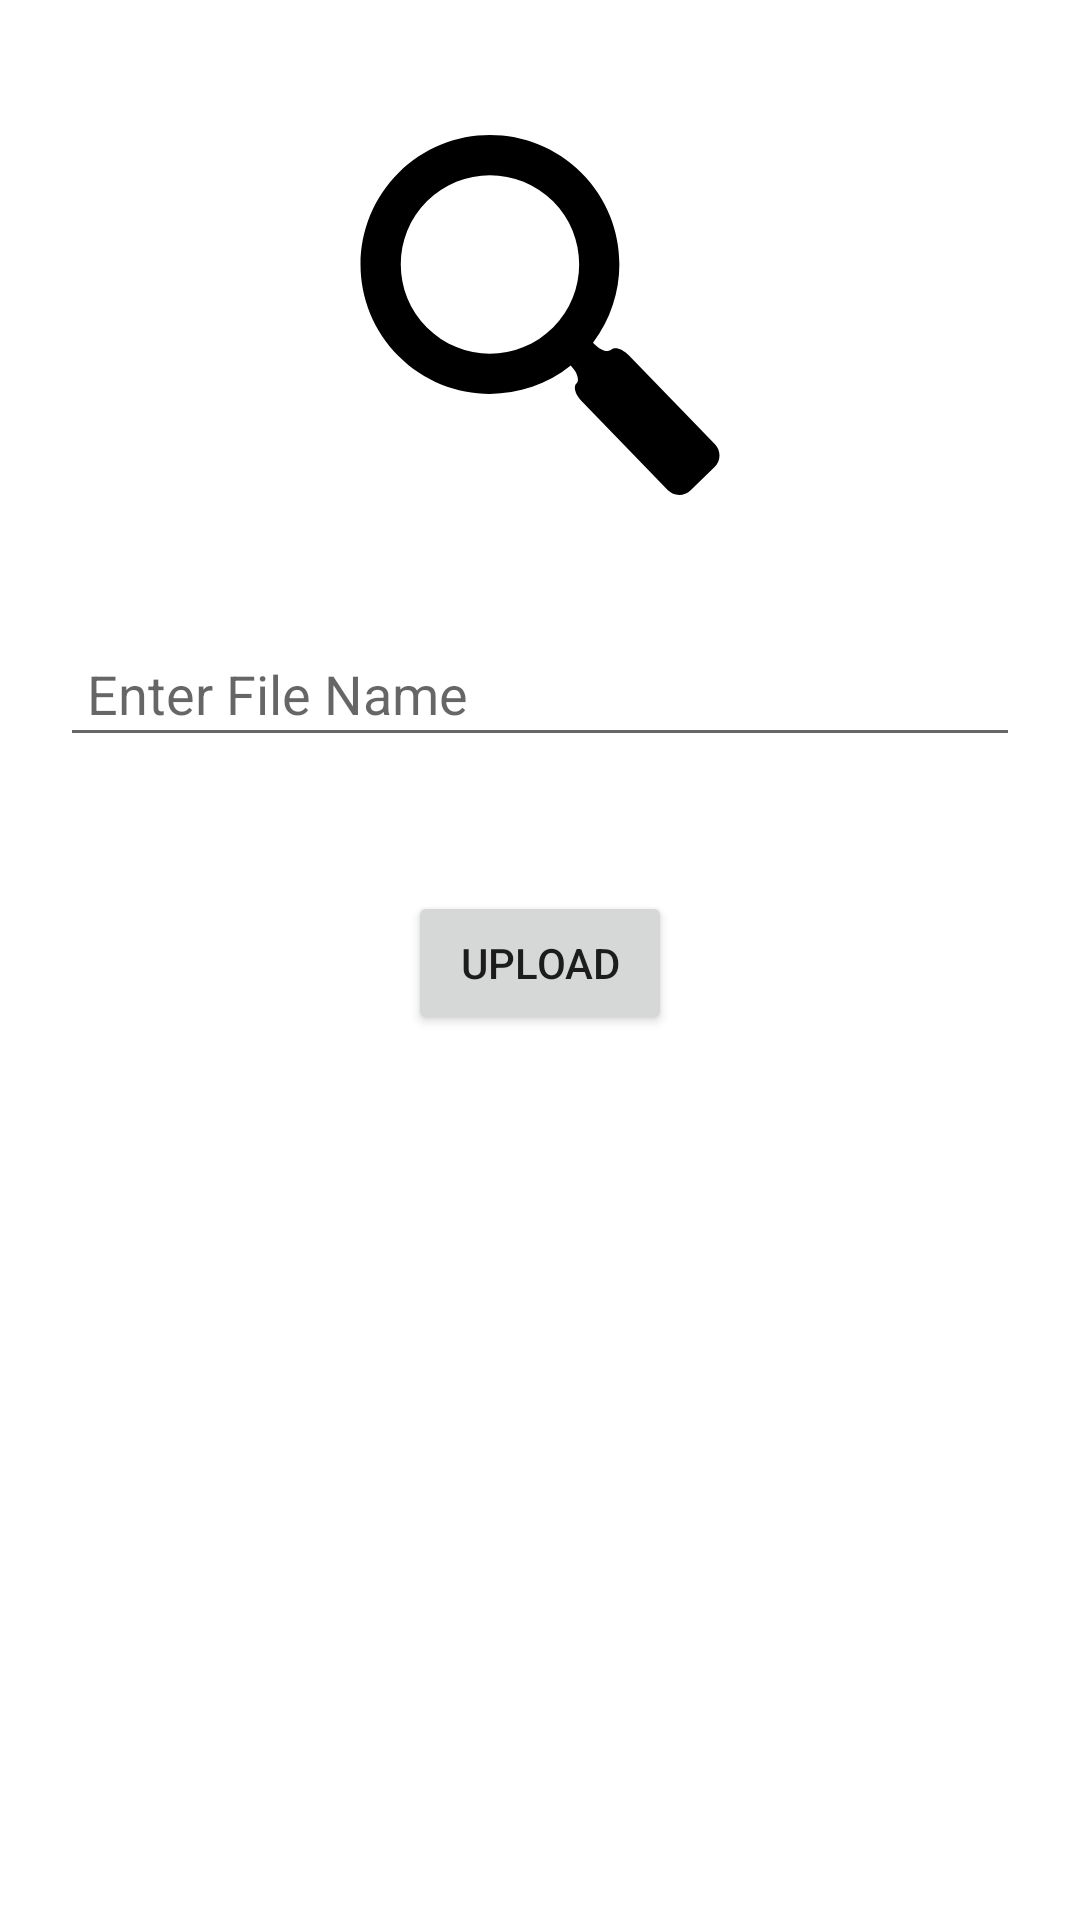

Icons on this 1080px×1920px Android screen, each with its box as (x1, y1, x2, y2):
search: (360, 135, 720, 495)
